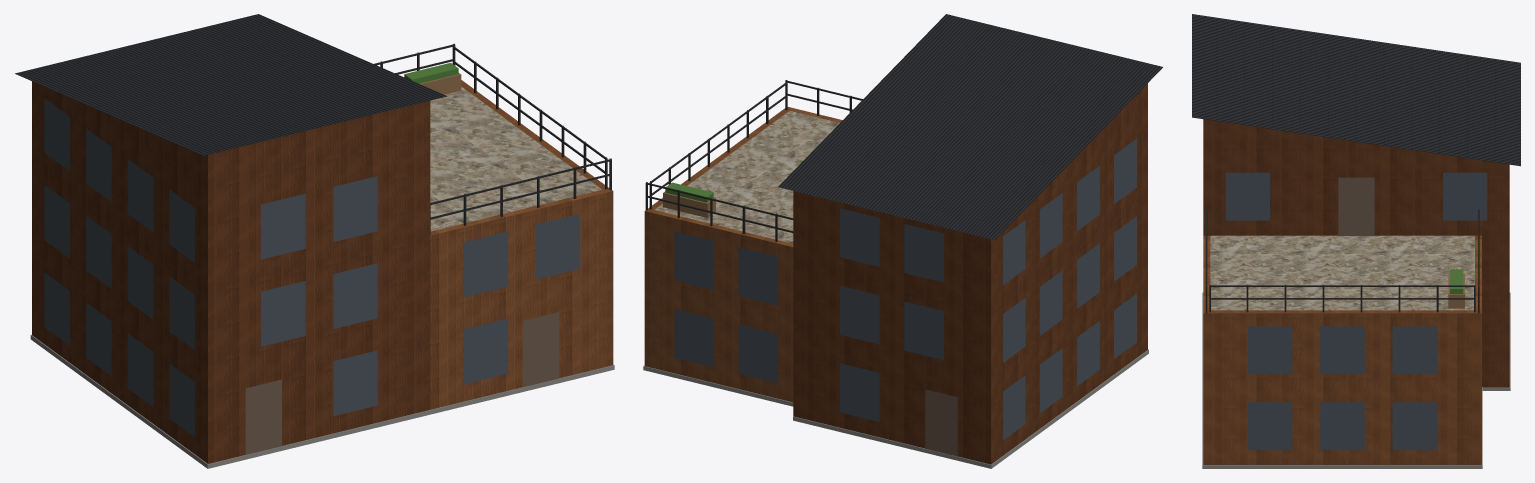
Rendered from rw-split-modern.zfix-v22.lod1.glb.
The picture shows the model from 3 angles, left to right: view 1: azimuth 30°, elevation 25°; view 2: azimuth 150°, elevation 25°; view 3: azimuth 270°, elevation 25°; orthographic projection. The views are drawn at different scales.
Parts seen in each view (by area): view 1: rw-split-modern; view 2: rw-split-modern; view 3: rw-split-modern.
Part boxes in pixels (x1,y1,x2,y2): rw-split-modern: (15,14,614,468); rw-split-modern: (643,14,1162,468); rw-split-modern: (1192,14,1520,468).
Size of the model in its own units: 15.03 by 11.02 by 11.8.
4 materials, 3 textured.
